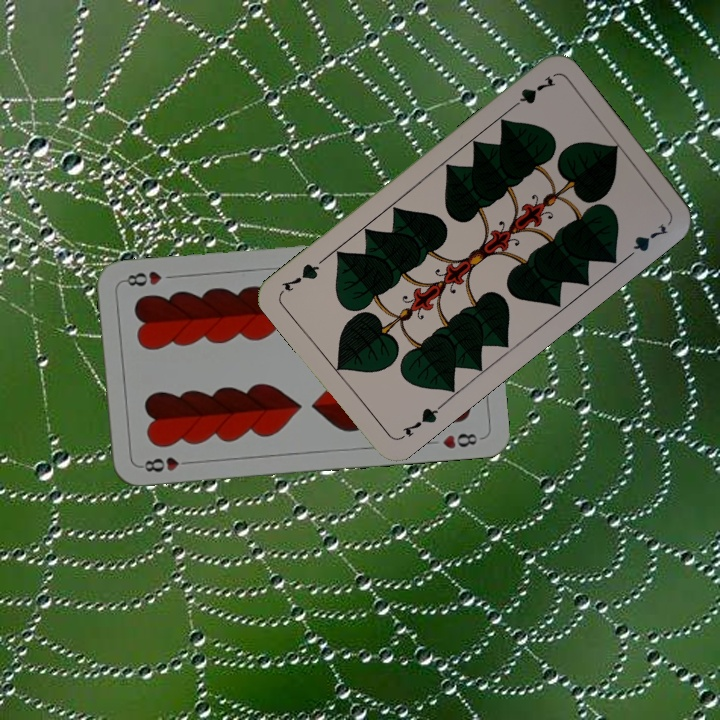G7: (504, 71, 558, 114), (396, 400, 446, 442)
H8: (136, 453, 195, 475)
